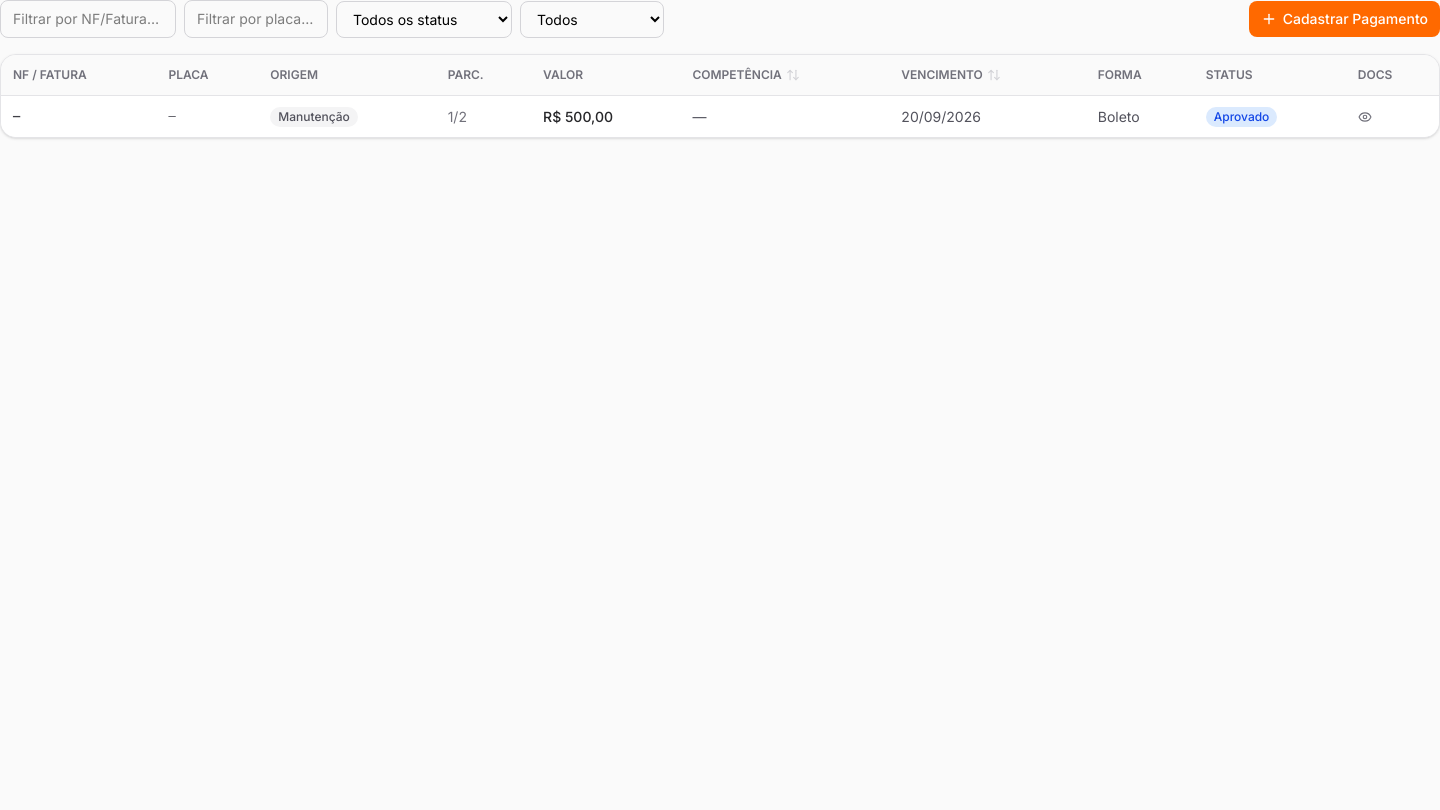
Test: PaymentsTab — cancelamento › outro aprovador não vê botão
The width and height of the screenshot is (1440, 810).
Click the button named "Visualizar parcela": (1365, 116) [1358,110,1372,124]
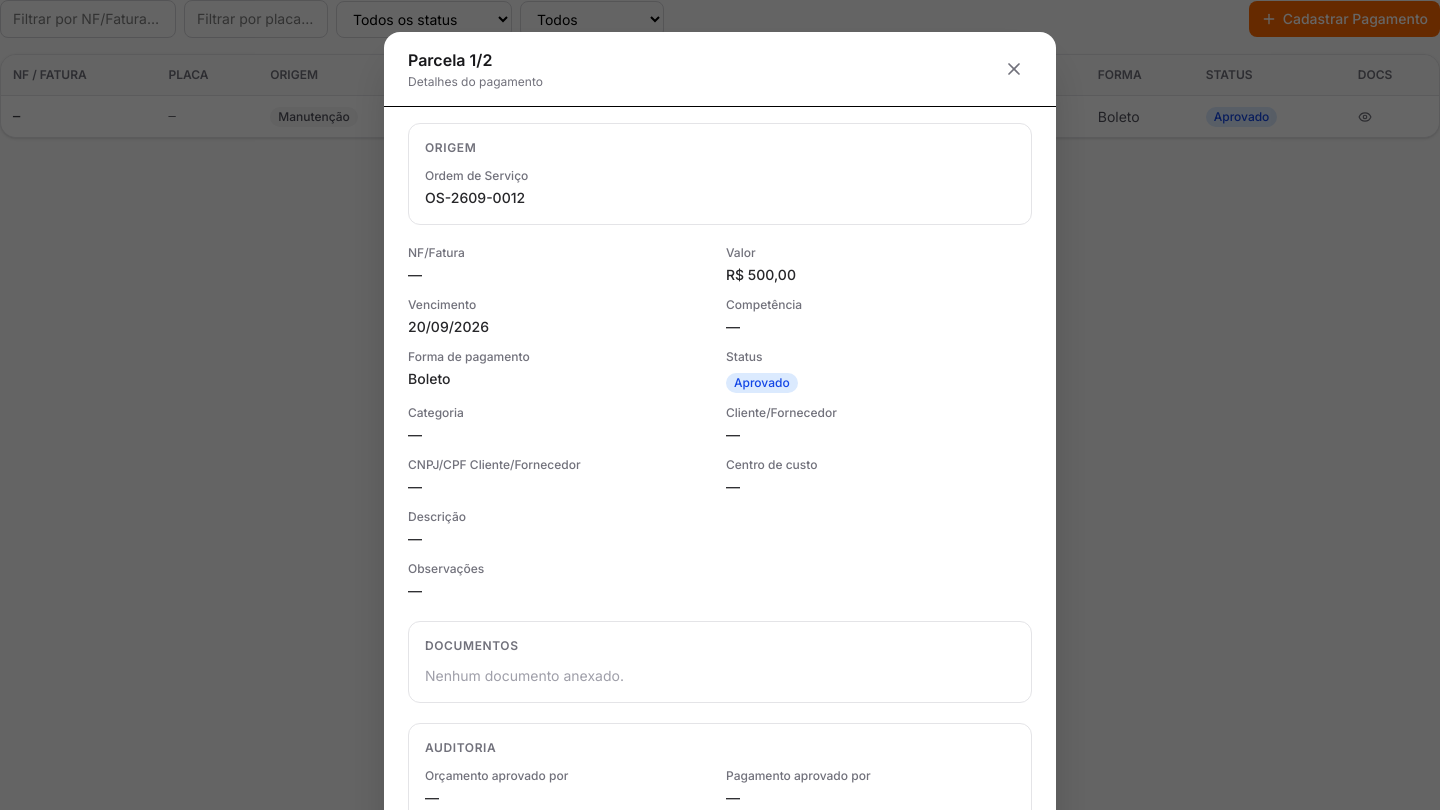
Check: the text "Parcela 1/2" is shown, box [408,50,492,70]
